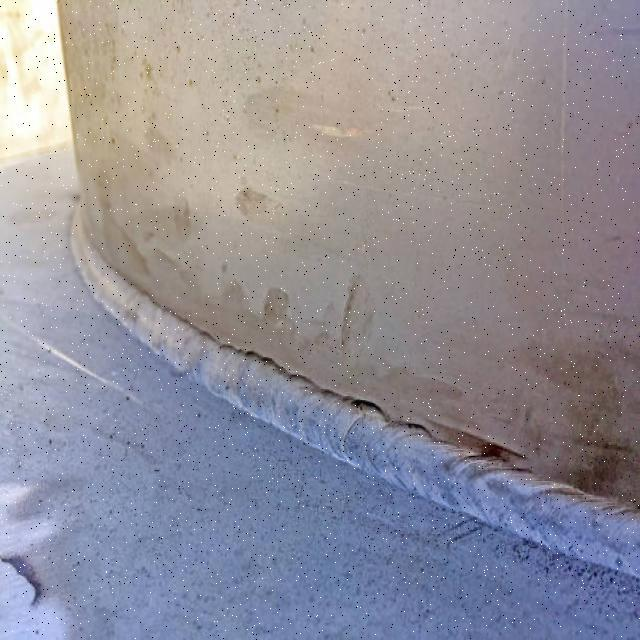Crack: (72, 199, 633, 587)
